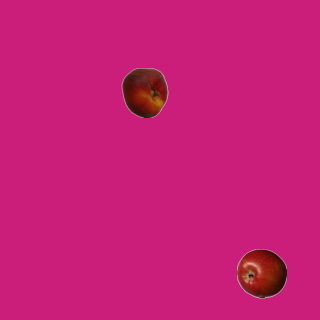Apple Braeburn: (236, 248, 286, 298)
Nectarine Flat: (119, 67, 169, 117)
